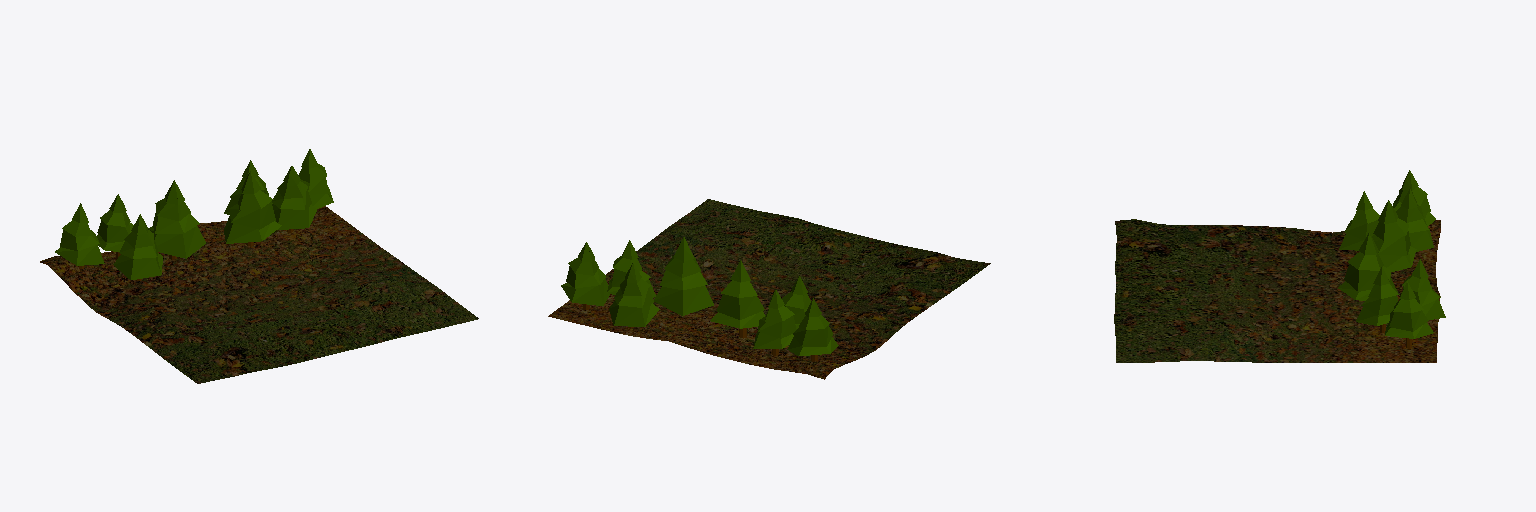
The picture shows the model from 3 angles: view 1: azimuth 30°, elevation 25°; view 2: azimuth 150°, elevation 25°; view 3: azimuth 270°, elevation 25°; orthographic projection.
Parts seen in each view (by area): view 1: Cone.013; view 2: Cone.013; view 3: Cone.013.
Boxes of the visible parts, x1=… form: Cone.013: x1=40, y1=149, x2=478, y2=383; Cone.013: x1=548, y1=199, x2=990, y2=379; Cone.013: x1=1114, y1=170, x2=1445, y2=362.
Bounding box in the file's own units: 9.28 × 2.7 × 9.4.
Materials: 1 (1 with a texture image).